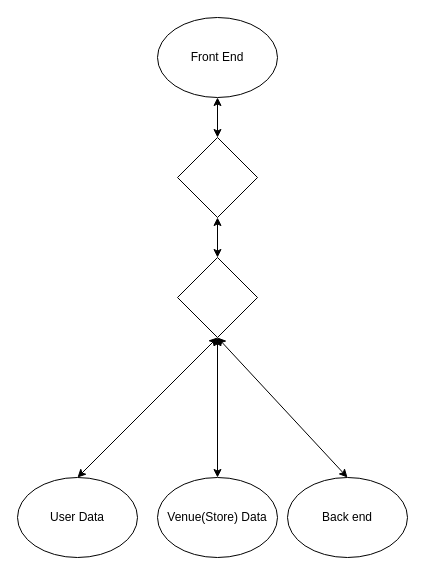
Image size: 425x575. Some labels were removed from this diagram. Each missing label, with the box of its shape:
API: (176, 136, 258, 218)
Logger (Debug): (176, 256, 258, 338)
